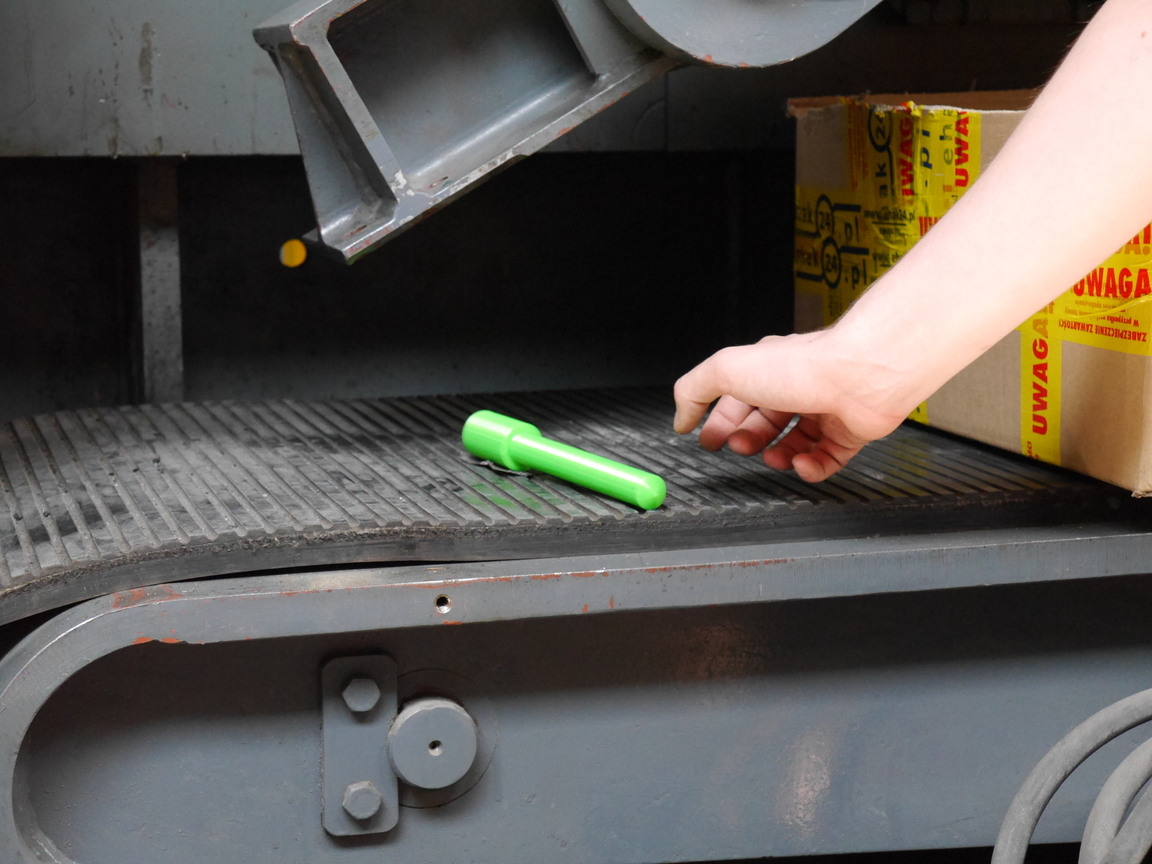cargo_g: (461, 406, 667, 510)
